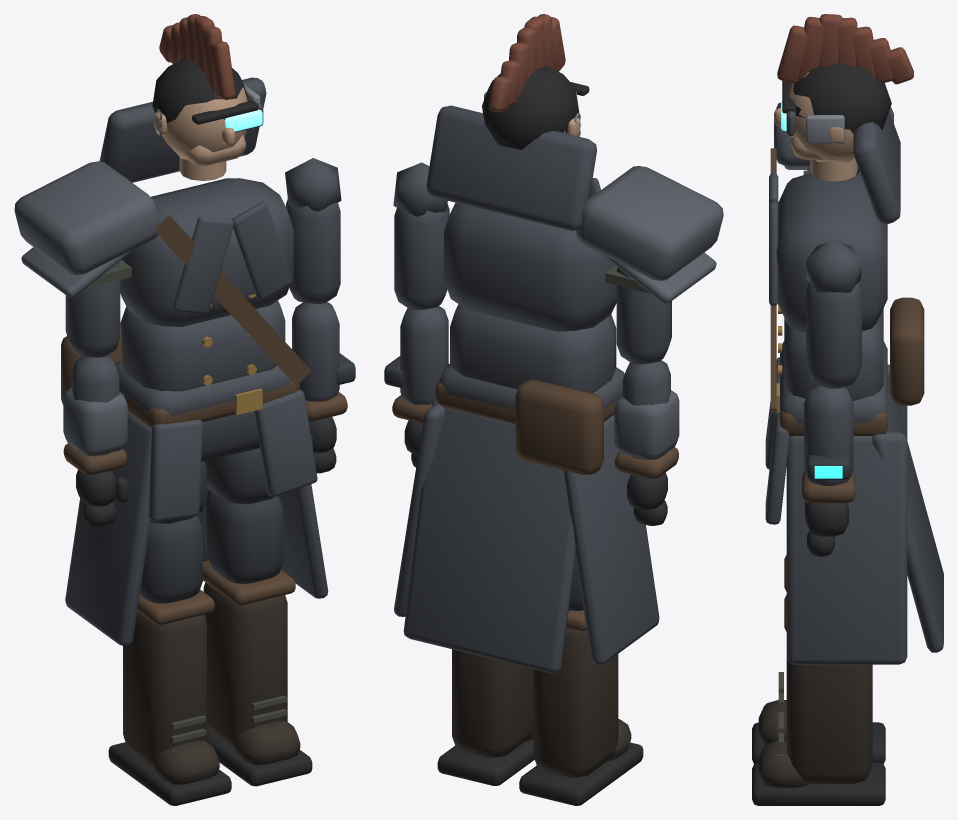
Rendered from npc2.glb.
3 views of the same model, side by side, from view 1: azimuth 30°, elevation 25°; view 2: azimuth 150°, elevation 25°; view 3: azimuth 270°, elevation 25° (orthographic).
Parts seen in each view (by area): view 1: Body, LegRMesh, ArmLMesh, LegLMesh, ArmRMesh, HeadMesh; view 2: Body, ArmLMesh, LegLMesh, ArmRMesh, LegRMesh, HeadMesh; view 3: Body, ArmRMesh, LegRMesh, HeadMesh, LegLMesh, ArmLMesh.
Part boxes in pixels (x1,y1,x2,y2): Body: (61, 77, 328, 645); LegRMesh: (203, 448, 312, 786); ArmLMesh: (14, 161, 159, 527); LegLMesh: (108, 461, 231, 805); ArmRMesh: (285, 158, 355, 473); HeadMesh: (152, 14, 263, 180); Body: (394, 105, 659, 673); ArmLMesh: (576, 166, 723, 525); LegLMesh: (519, 555, 643, 805); ArmRMesh: (384, 162, 449, 467); LegRMesh: (437, 649, 534, 785); HeadMesh: (482, 14, 589, 149); Body: (765, 111, 943, 664); ArmRMesh: (802, 240, 861, 556); LegRMesh: (752, 595, 885, 805); HeadMesh: (774, 14, 913, 181); LegLMesh: (752, 555, 885, 763); ArmLMesh: (774, 102, 893, 175).
Size of the model in its own units: 0.8374 by 1.94 by 0.4452.
